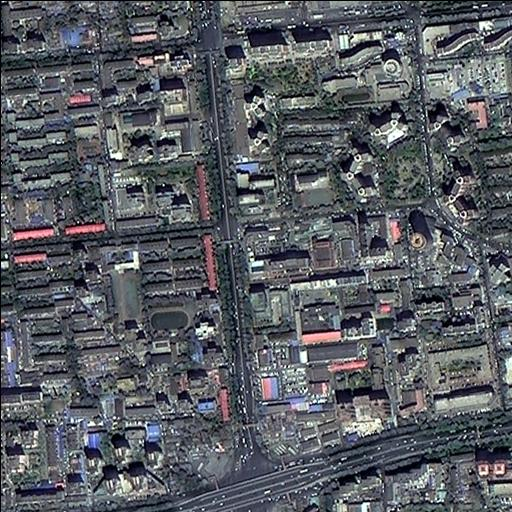school: (322, 57, 416, 106), (97, 240, 144, 329), (145, 299, 194, 366), (289, 167, 338, 215), (73, 118, 103, 161)
